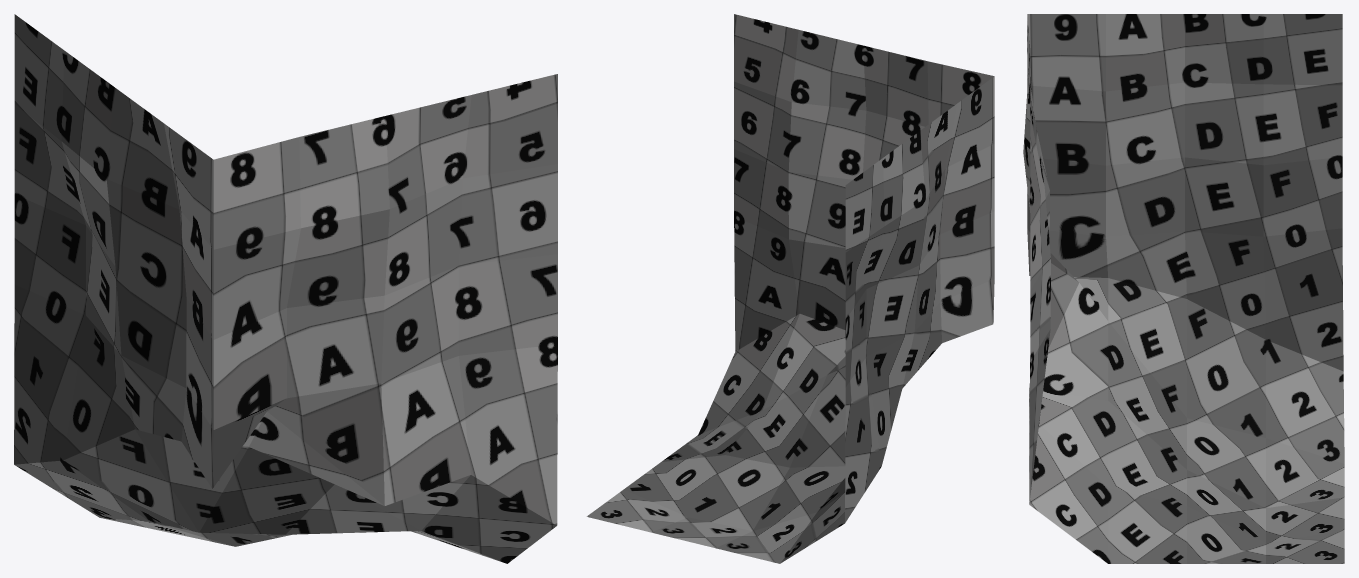
Rendered from CornerEdge2.fbx.
3 views of the same model, side by side, from view 1: azimuth 30°, elevation 25°; view 2: azimuth 150°, elevation 25°; view 3: azimuth 270°, elevation 25° (orthographic). The views are drawn at different scales.
Parts seen in each view (by area): view 1: polySurface77; view 2: polySurface77; view 3: polySurface77.
Part boxes in pixels (x1,y1,x2,y2): polySurface77: [14, 14, 557, 563]; polySurface77: [586, 14, 994, 563]; polySurface77: [1023, 14, 1344, 563].
Size of the model in its own units: 1.03 by 1.5 by 1.02.
Materials: 1 (1 with a texture image).
